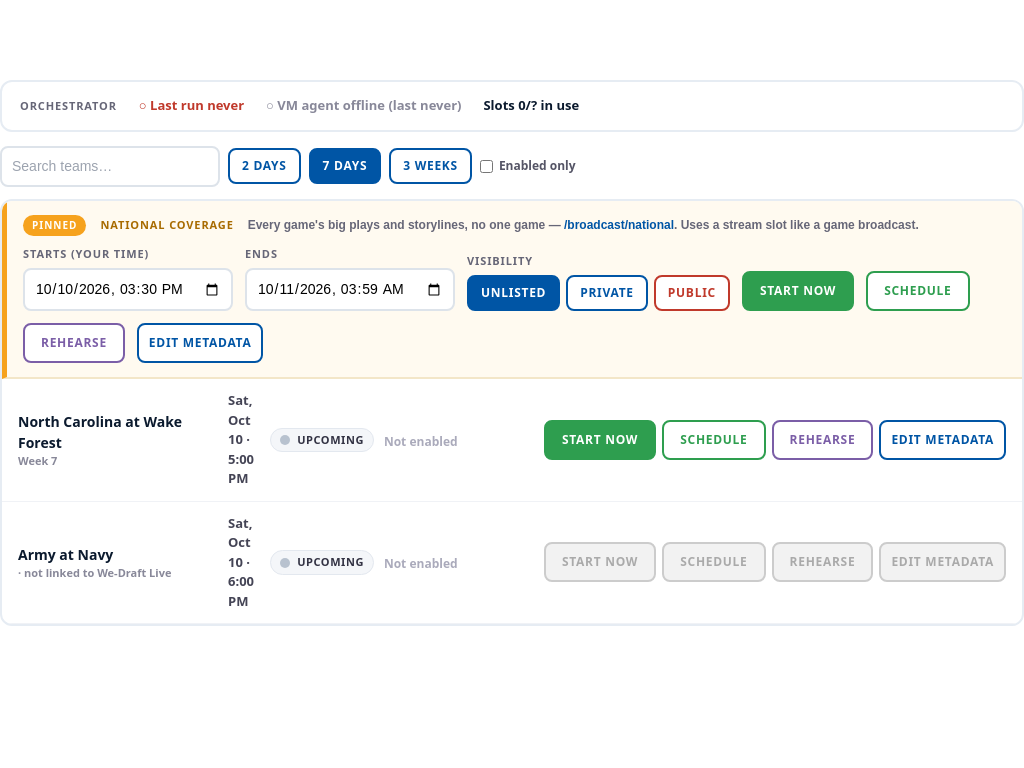
Test: Edit Metadata › Reset puts the generated text back (after asking) without saving
Click the button "Edit Metadata" in the row of "Wake Forest".
click(943, 440)  # box [879,420,1006,460]
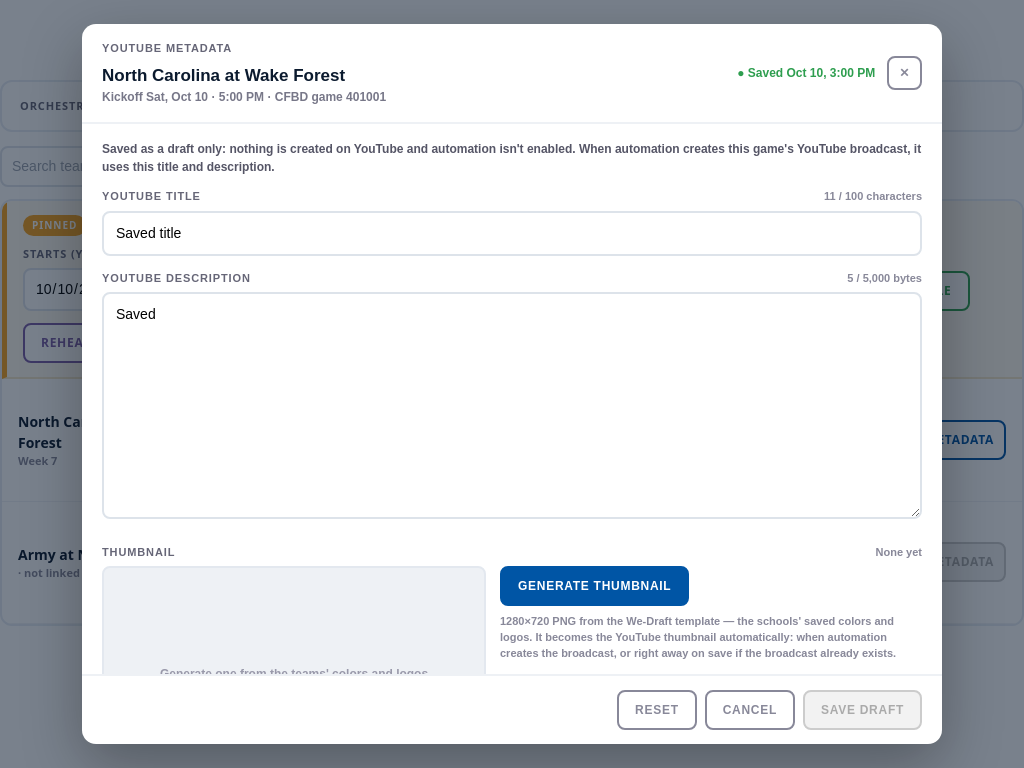
Check: the field showing "Saved title" is shown, box [102,210,922,256]
Click the button "Reset".
click(657, 710)  # box [617,690,697,730]
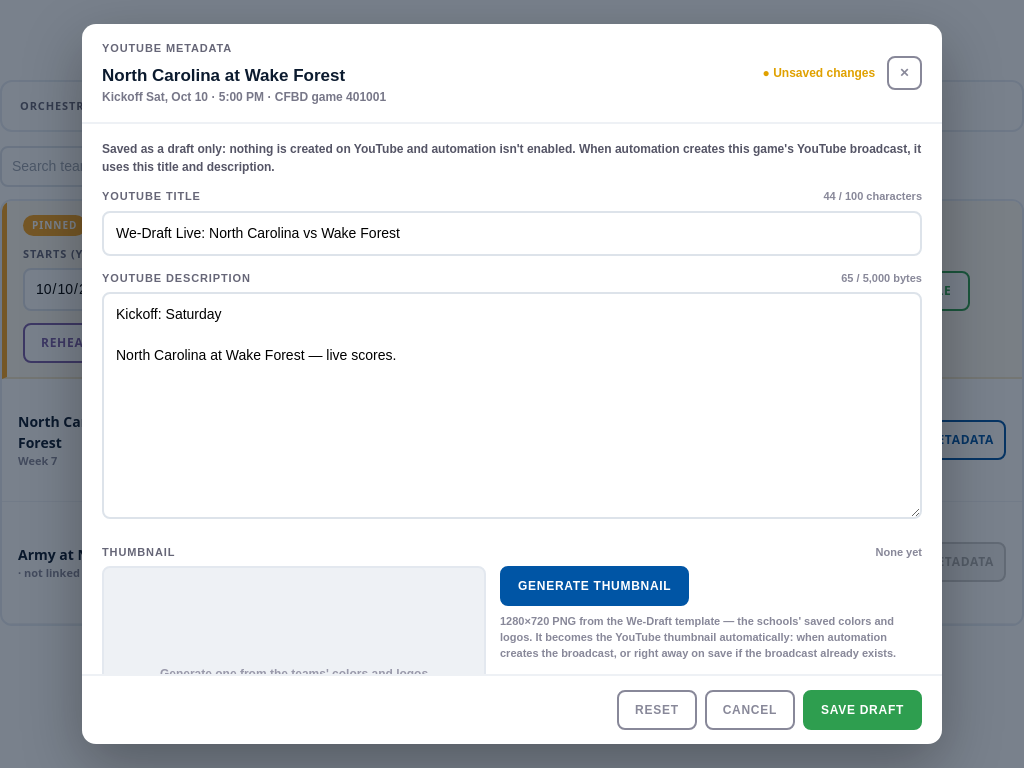
Check: the field labelled "YouTube title" holds "We-Draft Live: North Carolina vs Wake Forest", box [102,210,922,256]
Check: the text with test id "metadata-status" shows "Unsaved changes", box [773,66,875,80]
